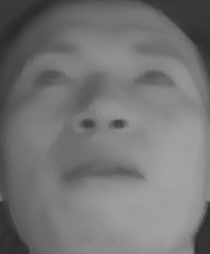eye: (133, 62, 178, 96), (28, 62, 77, 91)
mouth: (57, 143, 145, 200)
